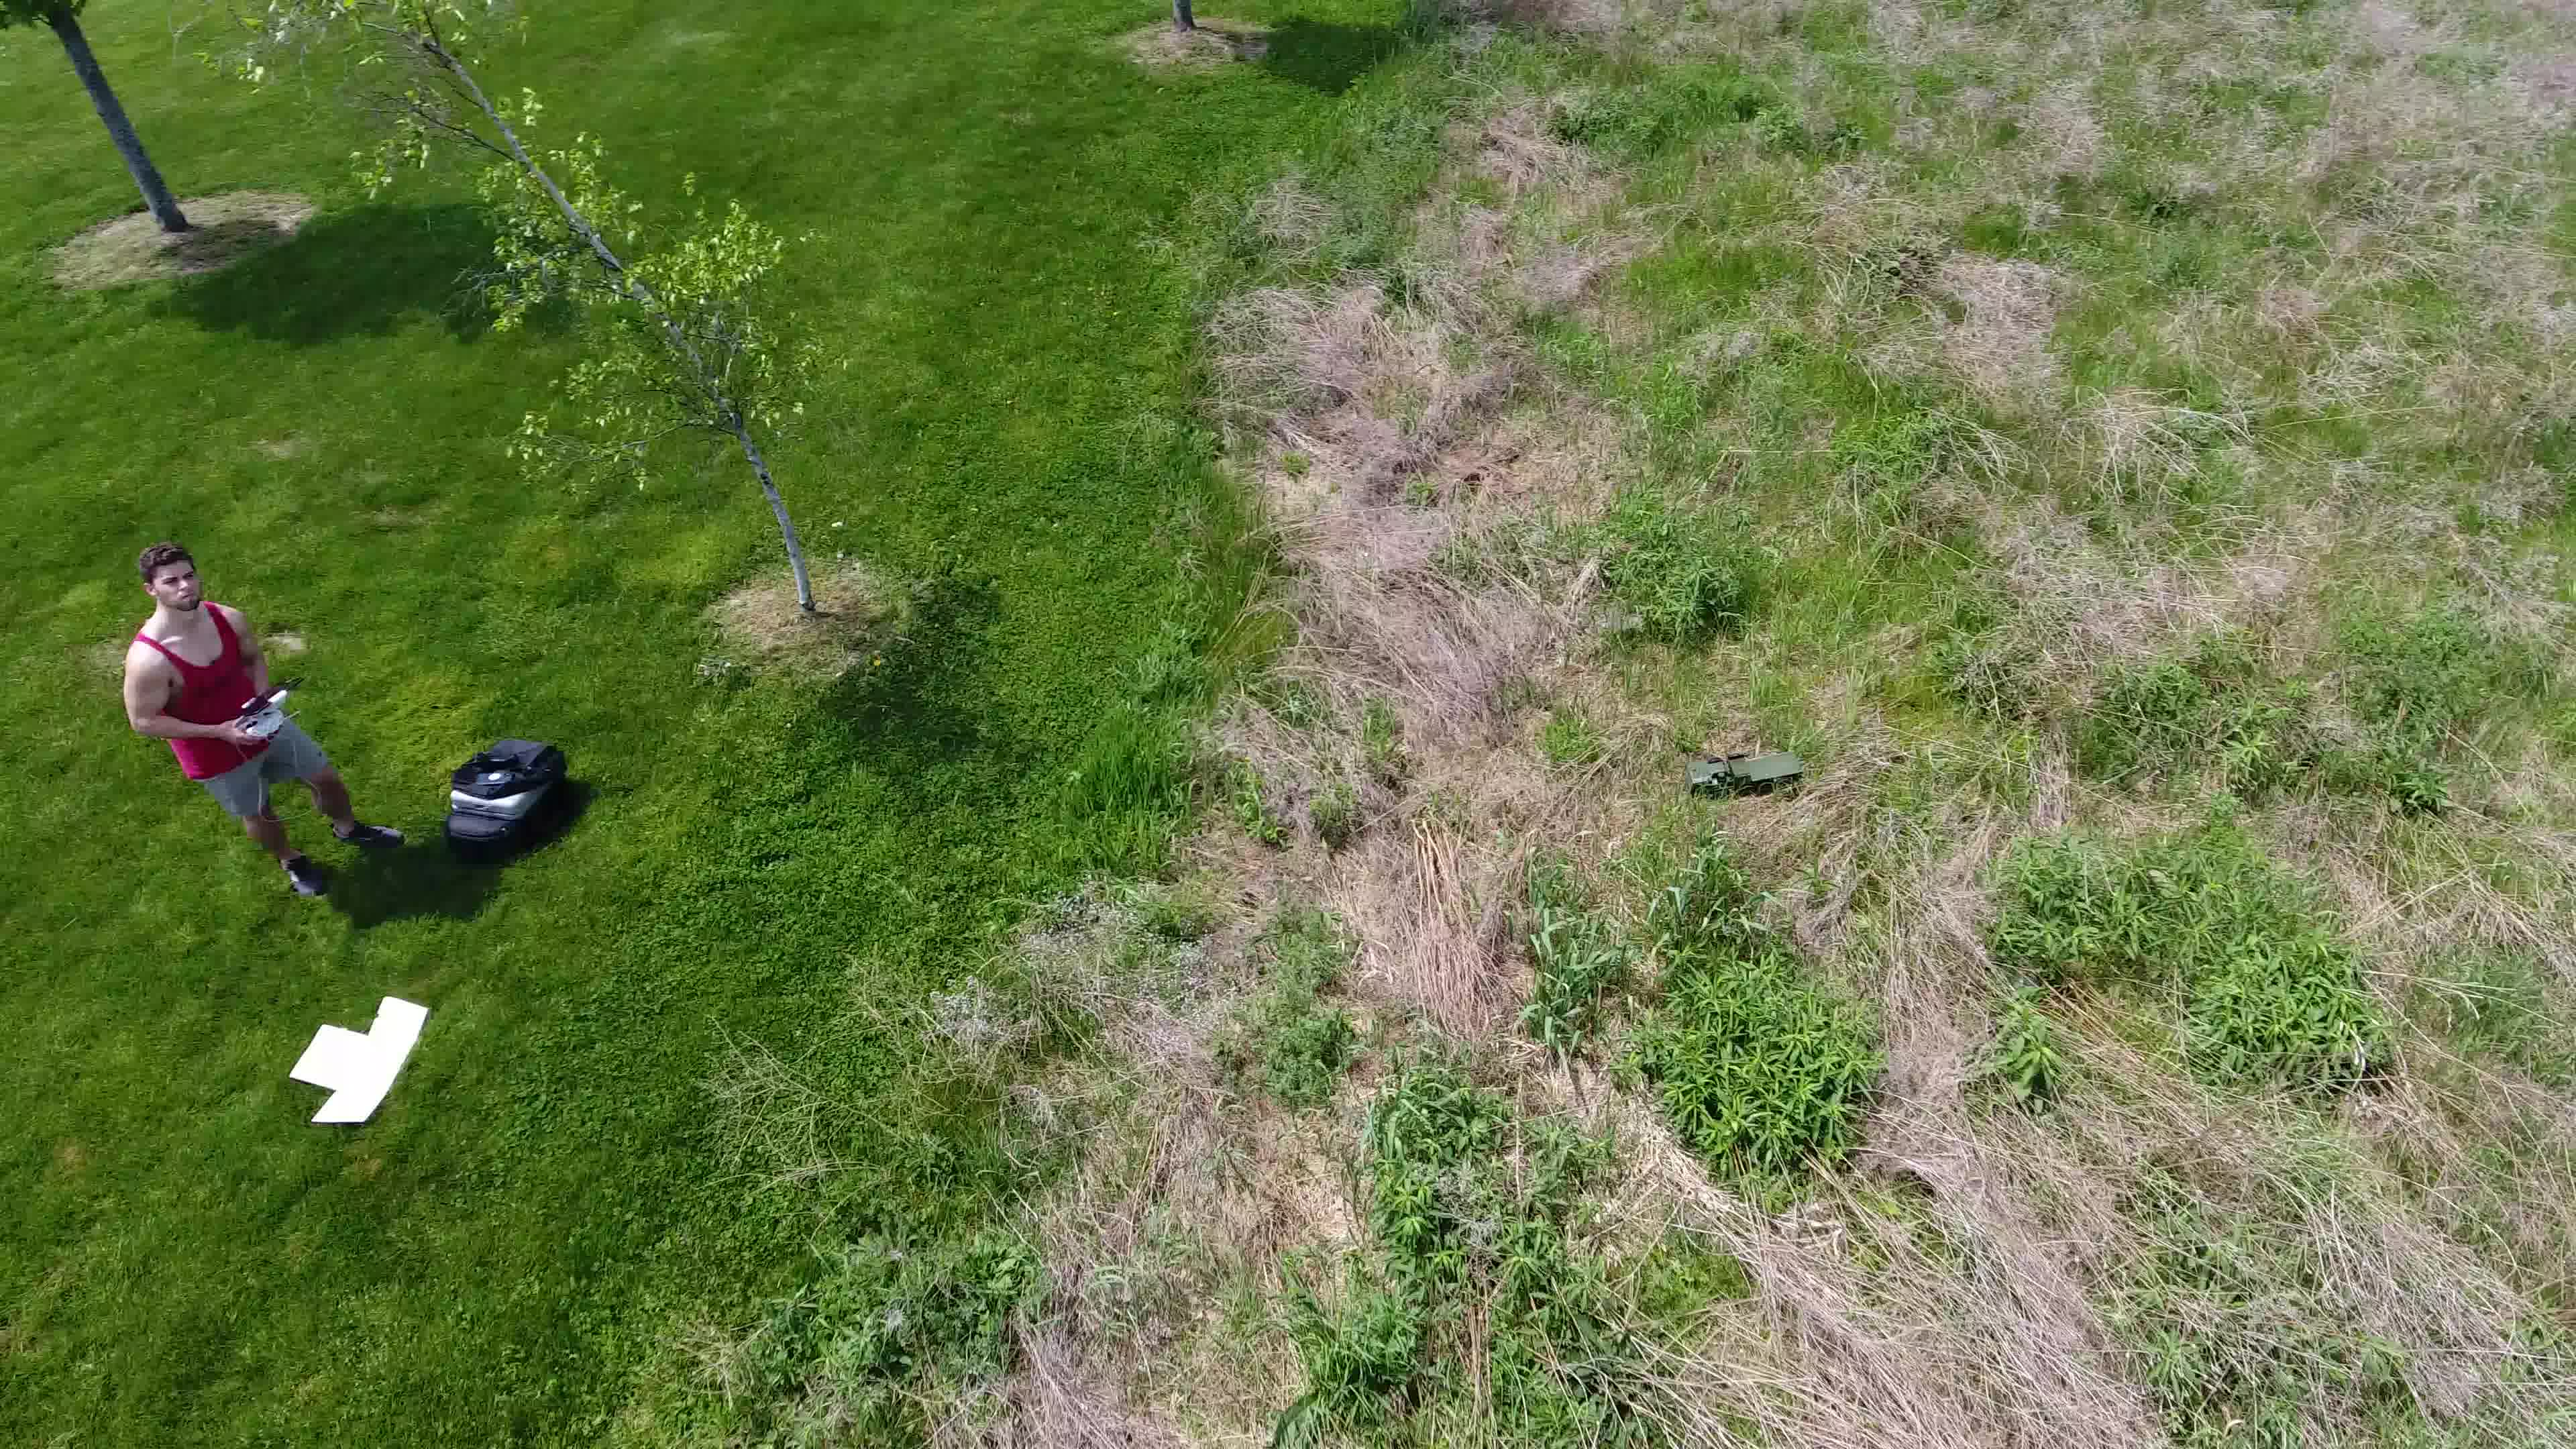transporter9: (1681, 747, 1805, 801)
